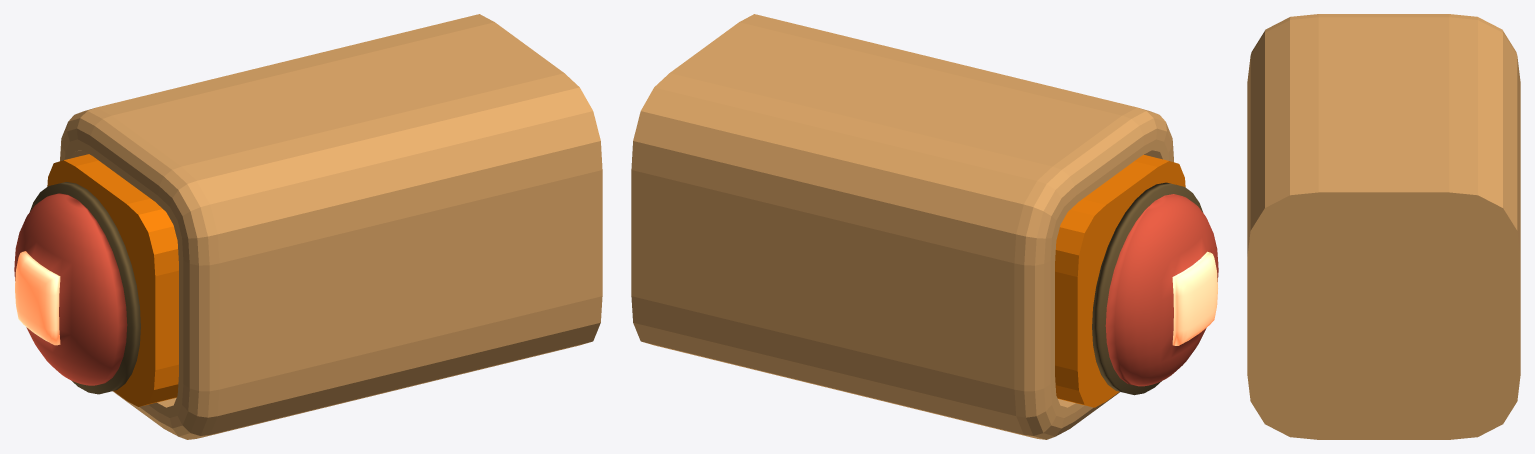
Rendered from Piston.fbx.
3 renders of one model, left to right at view 1: azimuth 30°, elevation 25°; view 2: azimuth 150°, elevation 25°; view 3: azimuth 270°, elevation 25°, orthographic. The views are drawn at different scales.
Parts seen in each view (by area): view 1: PistonBox, Piston; view 2: PistonBox, Piston; view 3: PistonBox.
Boxes of the visible parts, x1,y1,x2,y2 form: PistonBox: [60, 14, 602, 439]; Piston: [14, 154, 178, 406]; PistonBox: [631, 14, 1173, 439]; Piston: [1055, 154, 1218, 407]; PistonBox: [1247, 14, 1520, 439].
Size of the model in its own units: 771 by 388 by 388.
